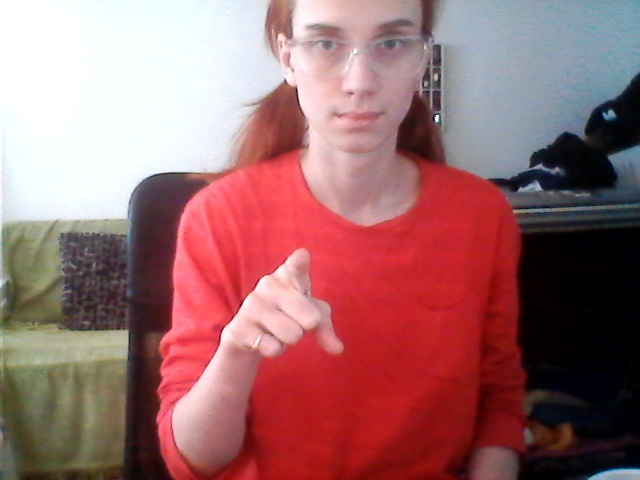ty: (221, 236, 355, 370)
